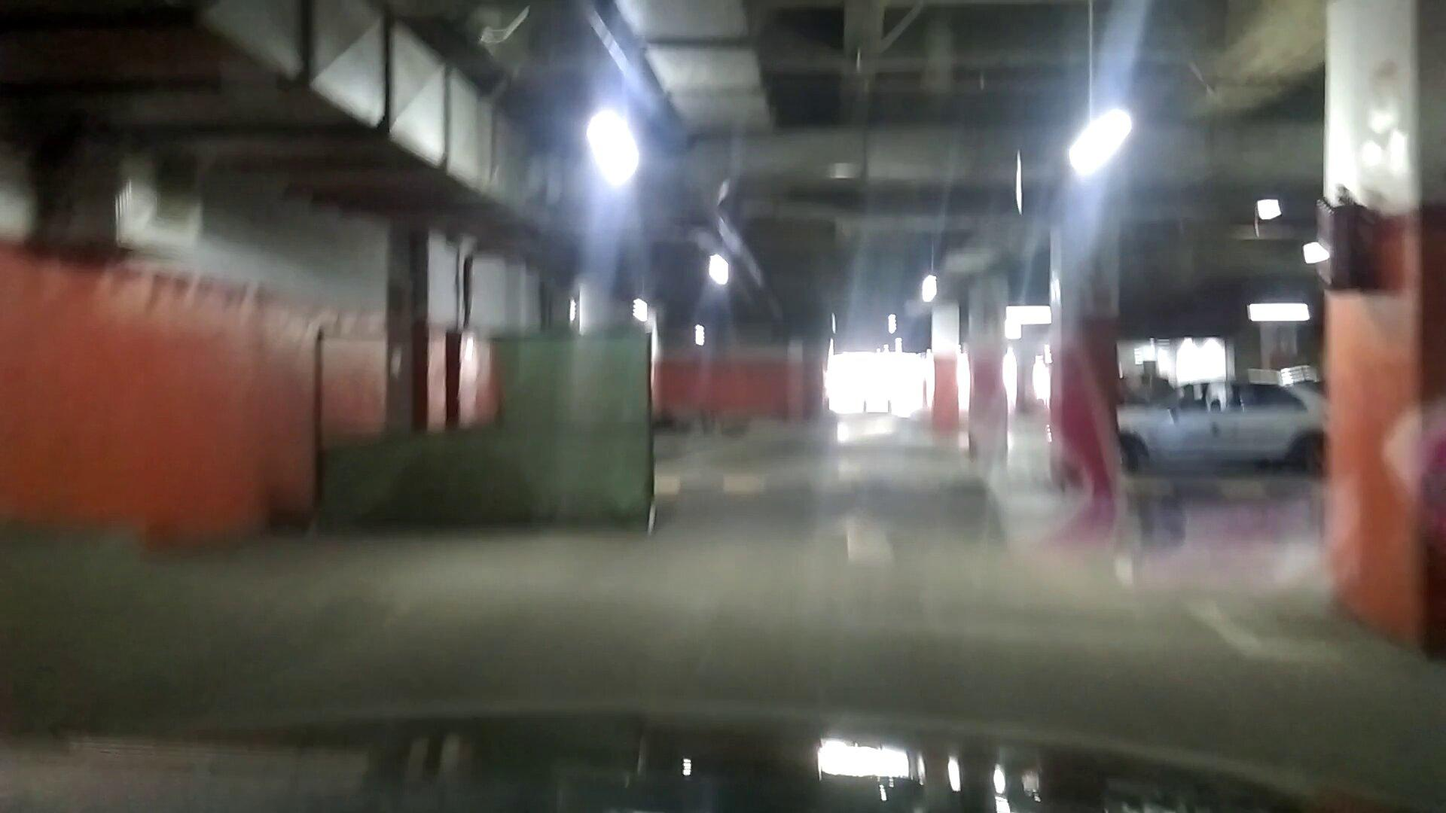Bump: (659, 474, 1022, 491), (1133, 484, 1326, 499)
